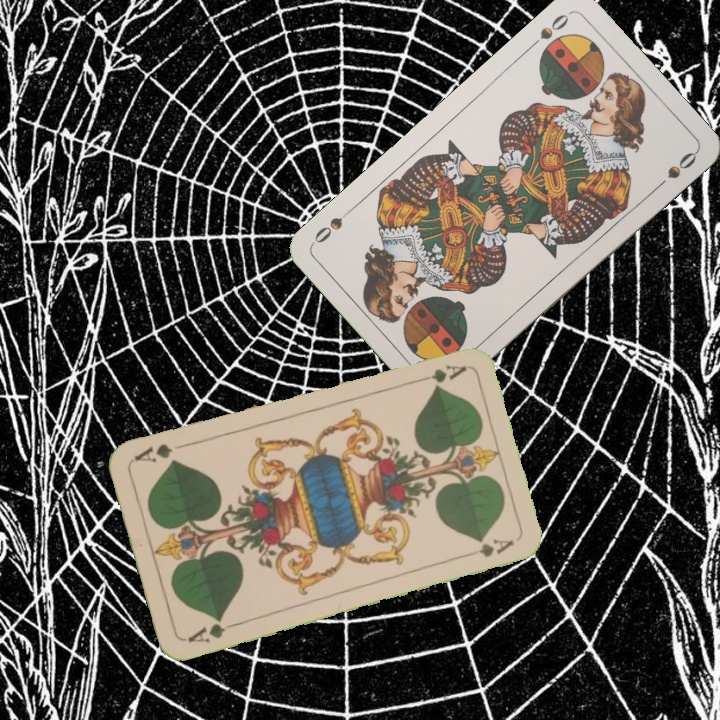GA: (183, 613, 240, 646), (410, 360, 469, 386)
SO: (525, 8, 573, 52)
